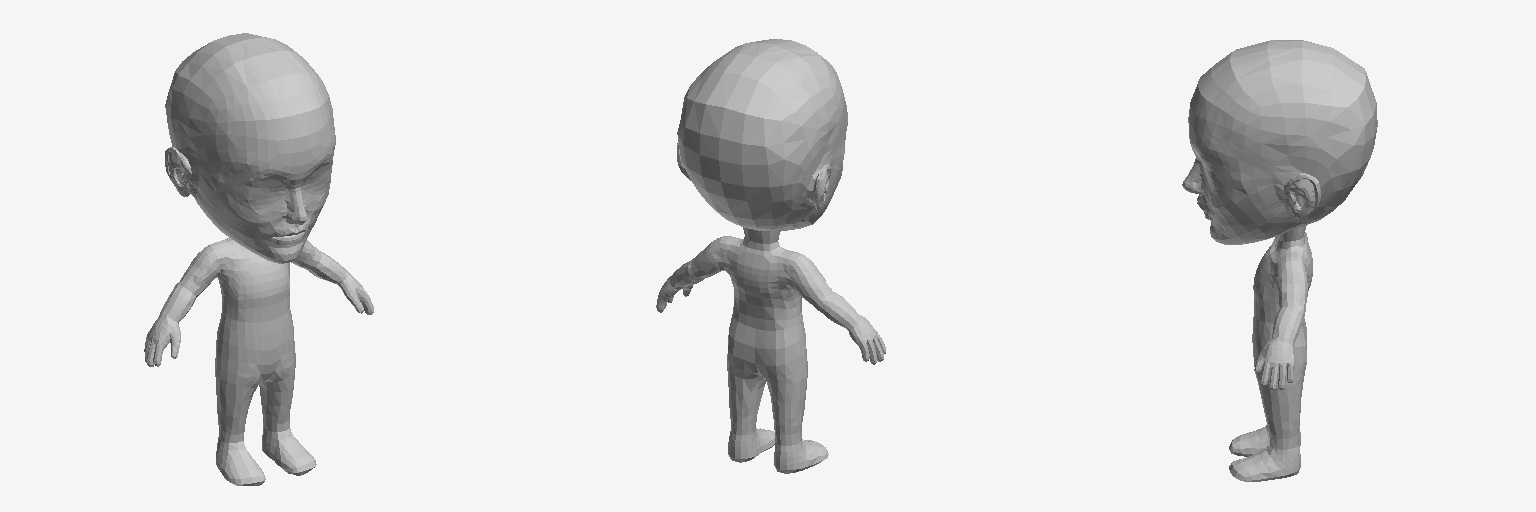
The model's file is boyWithoutEye.obj.
The picture shows the model from 3 angles: view 1: azimuth 30°, elevation 25°; view 2: azimuth 150°, elevation 25°; view 3: azimuth 270°, elevation 25°; orthographic projection.
Size of the model in its own units: 0.4301 by 0.7589 by 0.3233.